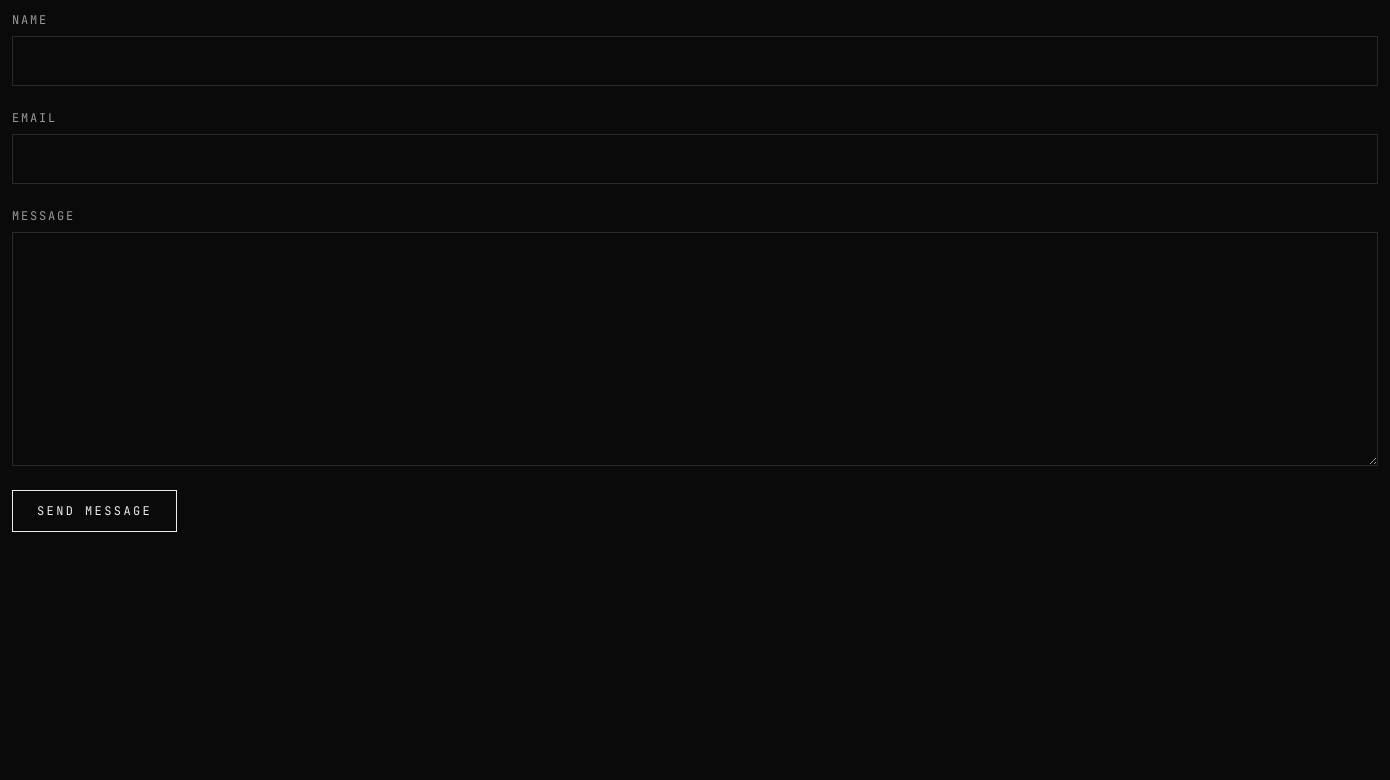
Test: ContactForm (Req 17.4, 17.7, 17.8) › shows retry messaging and no success on a 500 response (Req 17.7)
In the field labelled "Name": (695, 61) x1=12 y1=36 x2=1378 y2=86, type "Ada"
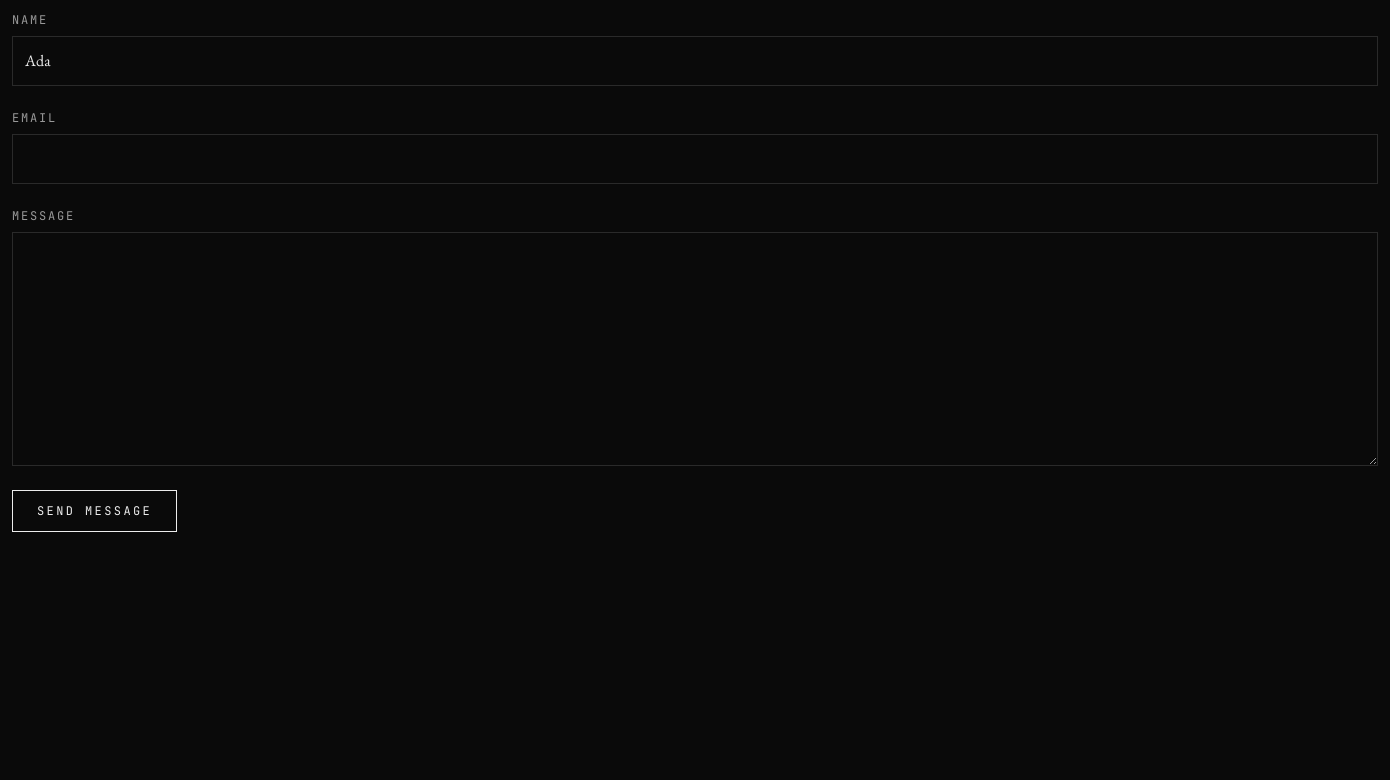
In the field labelled "Email": (695, 159) x1=12 y1=134 x2=1378 y2=184, type "ada@example.com"
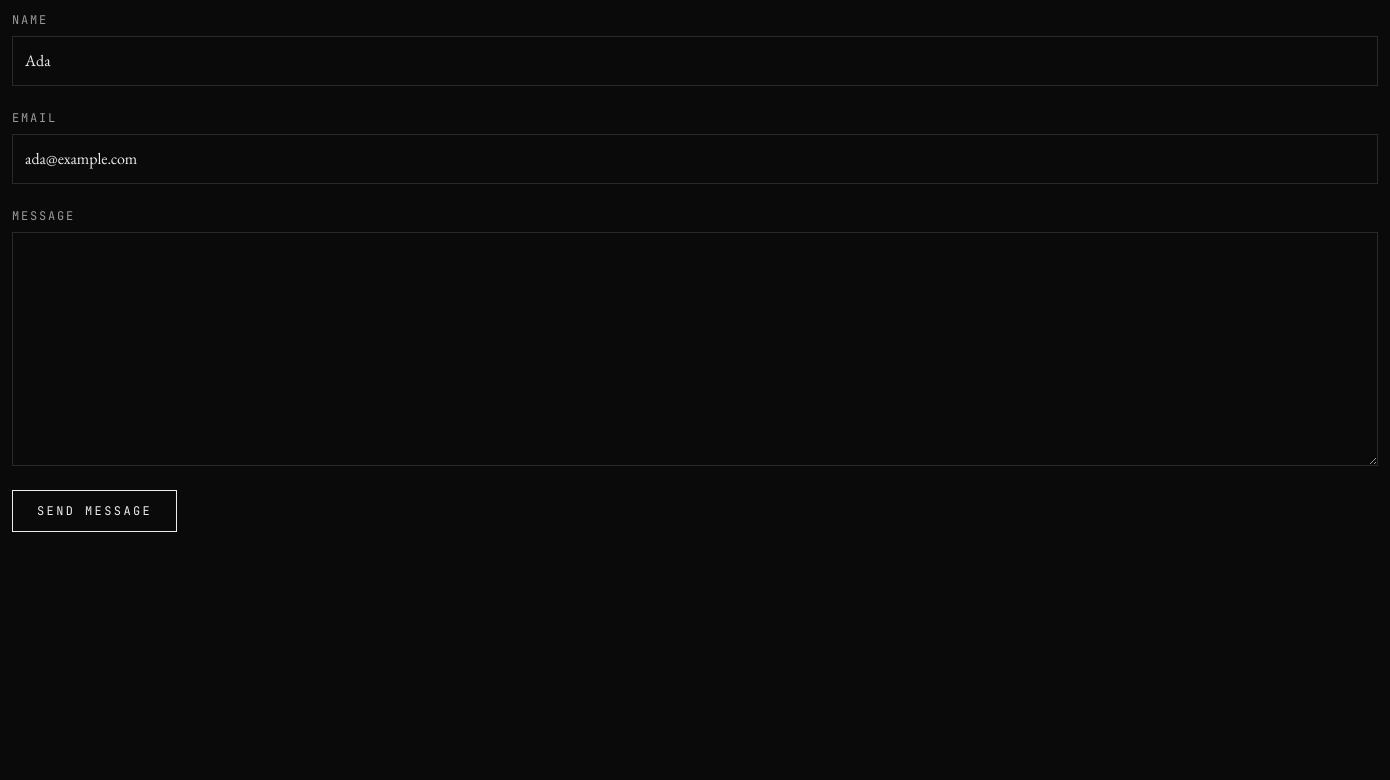
In the text box labelled "Message": (695, 349) x1=12 y1=232 x2=1378 y2=466, type "Hi."
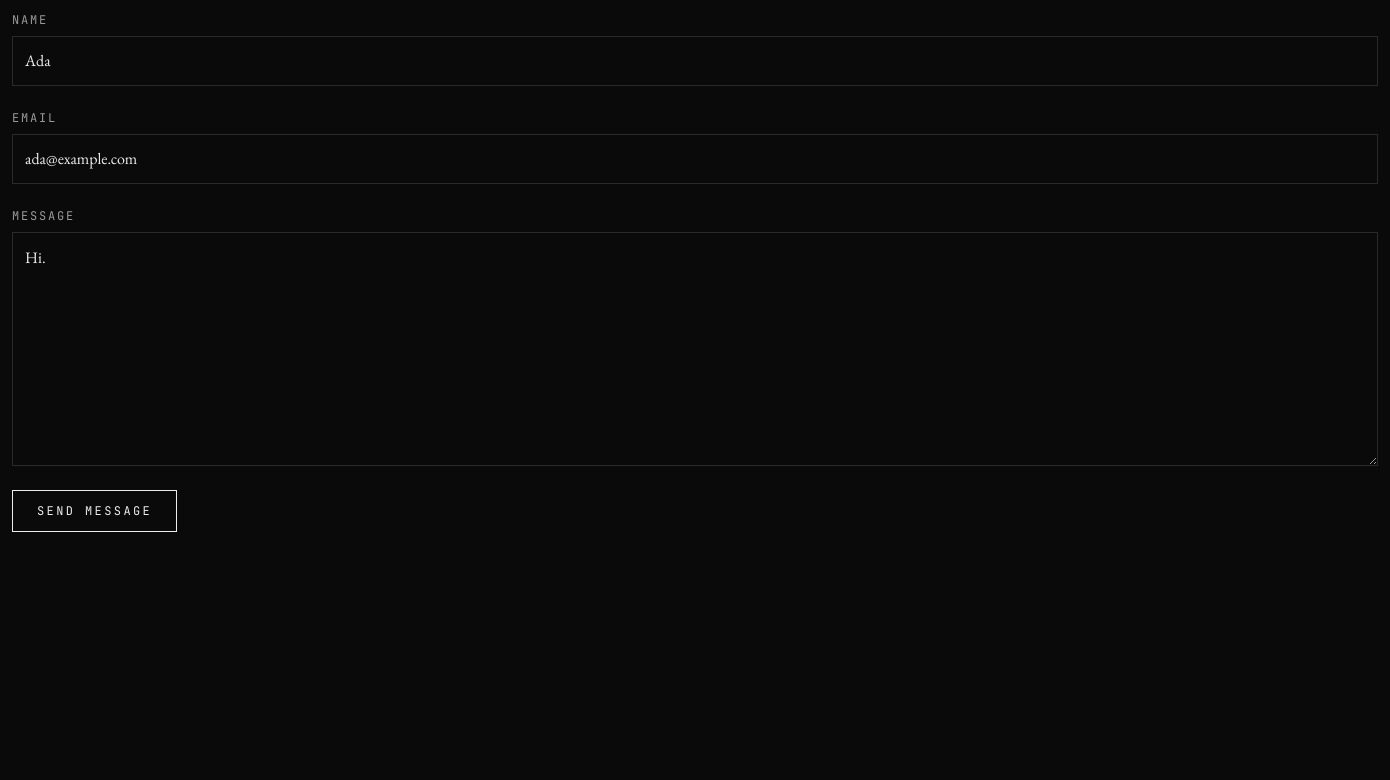
Click the button "Send message": (95, 511) x1=12 y1=490 x2=177 y2=532
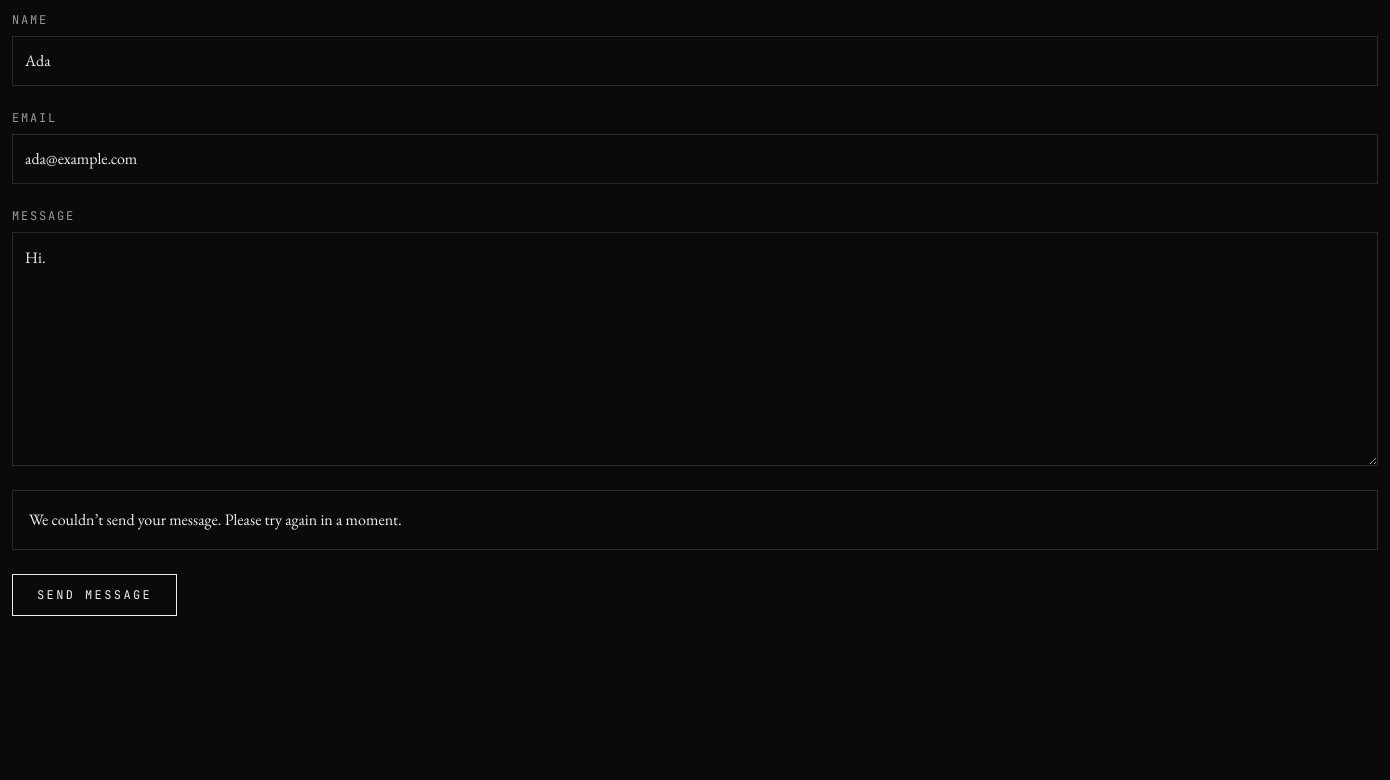
Expected: the text "We couldn’t send your message. Please try again in a moment." is shown, x1=12 y1=490 x2=1378 y2=550
